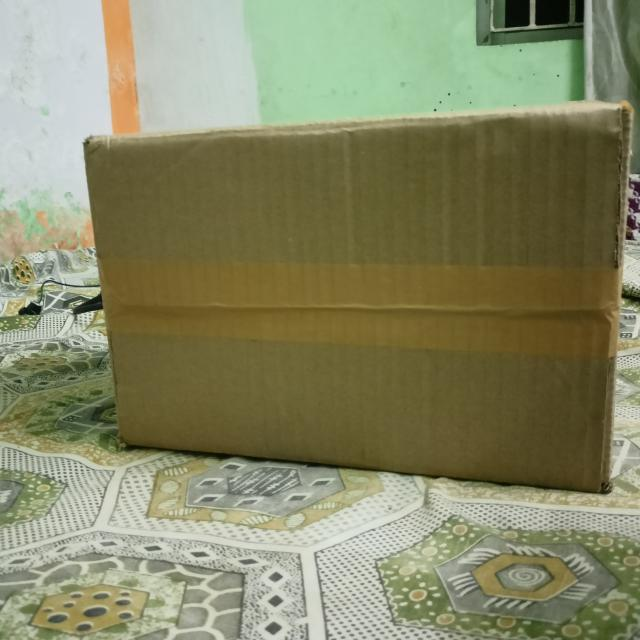box: (87, 106, 628, 491)
